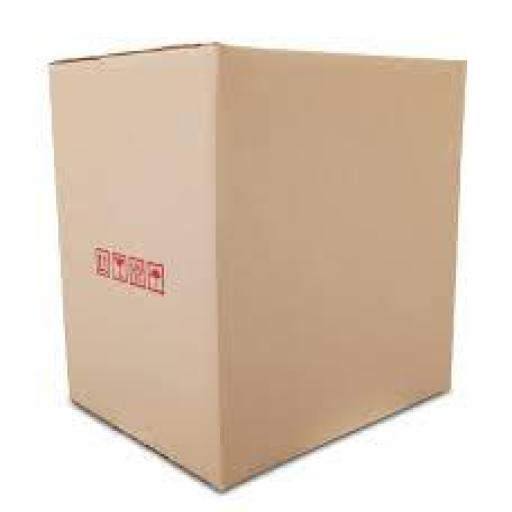plastic bottle: (49, 39, 469, 489)
